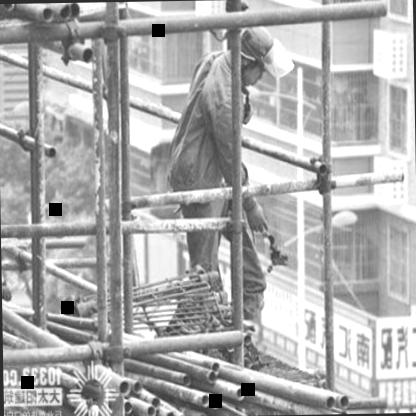helmet: (234, 24, 280, 86)
